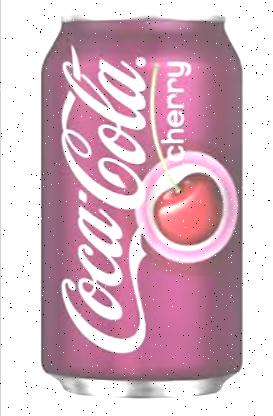Can: (41, 17, 243, 383)
